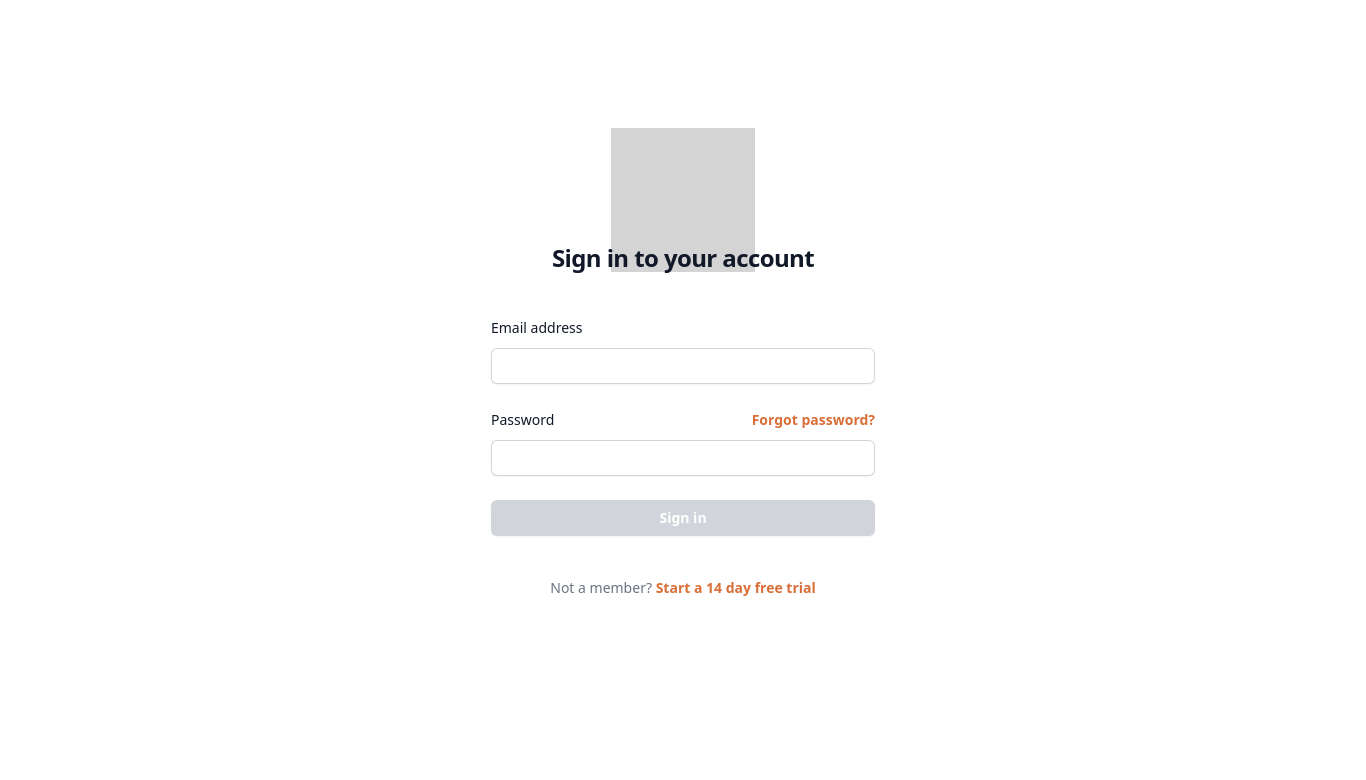
Test: Auth flow › Check if we can signout after a successful login
Type "admin@akvelon.com" into the field named "email" at x=683, y=366, box [491,348,875,384]
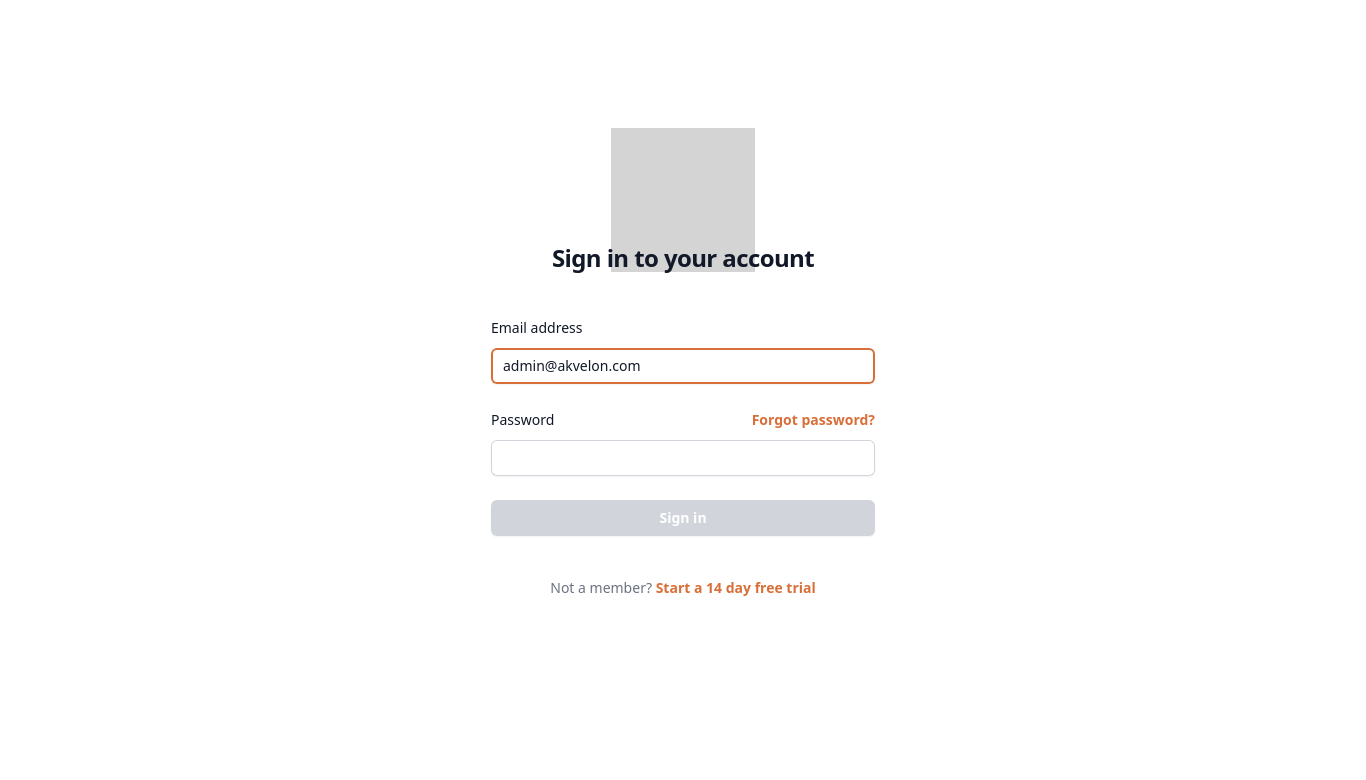
Type "admin" into the password field named "password" at x=683, y=458, box [491,440,875,476]
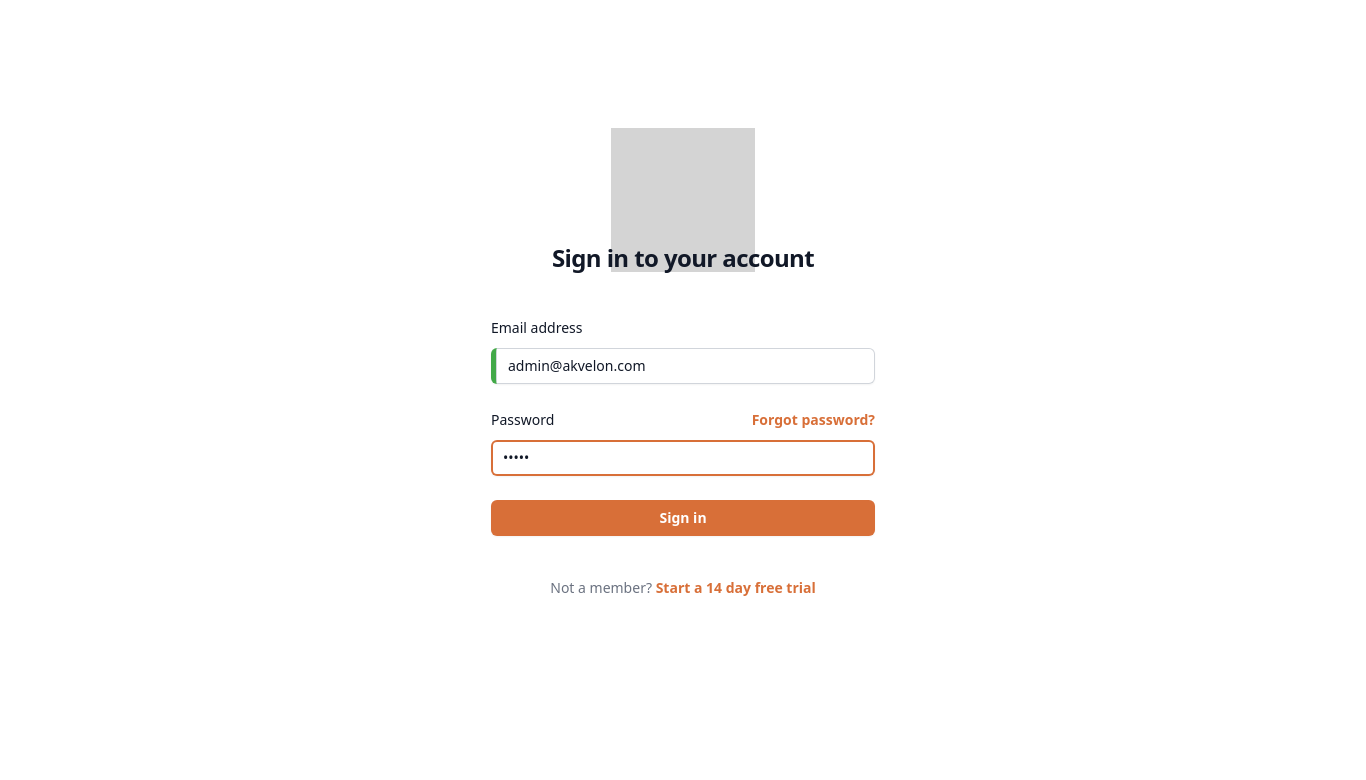
Click the button "Sign in" at x=683, y=518, box [491,500,875,536]
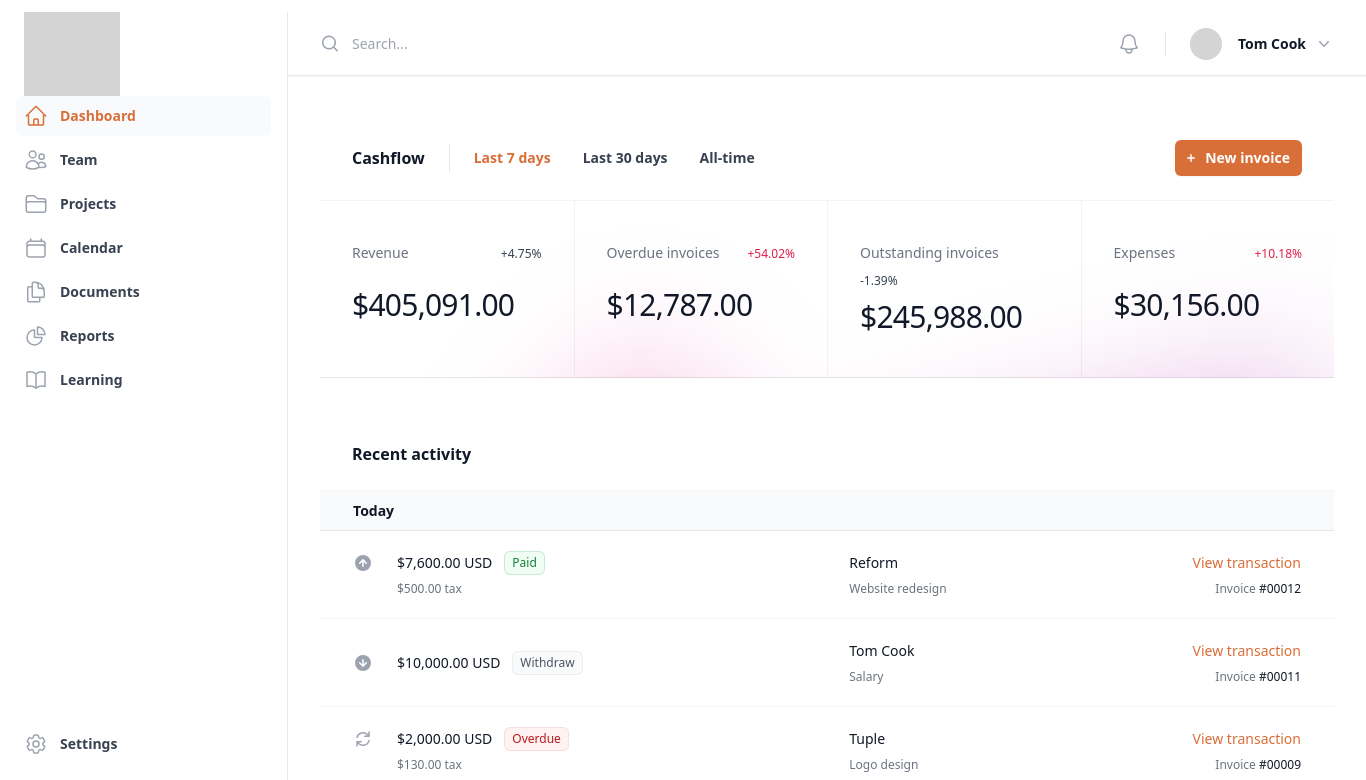
Click the button with id "user-menu-button" at x=1262, y=44, box [1184,22,1340,66]
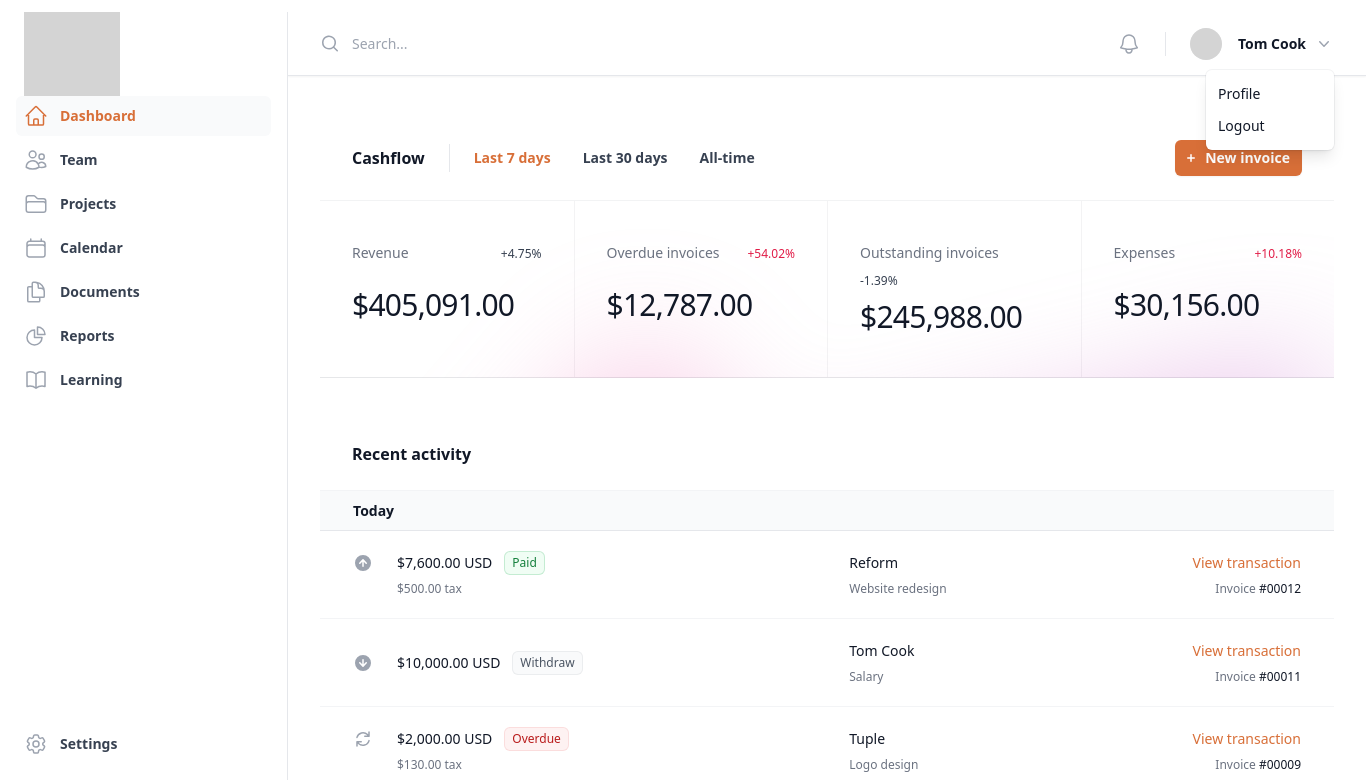
Click the menu item "Logout" at x=1270, y=126, box [1206,110,1334,142]
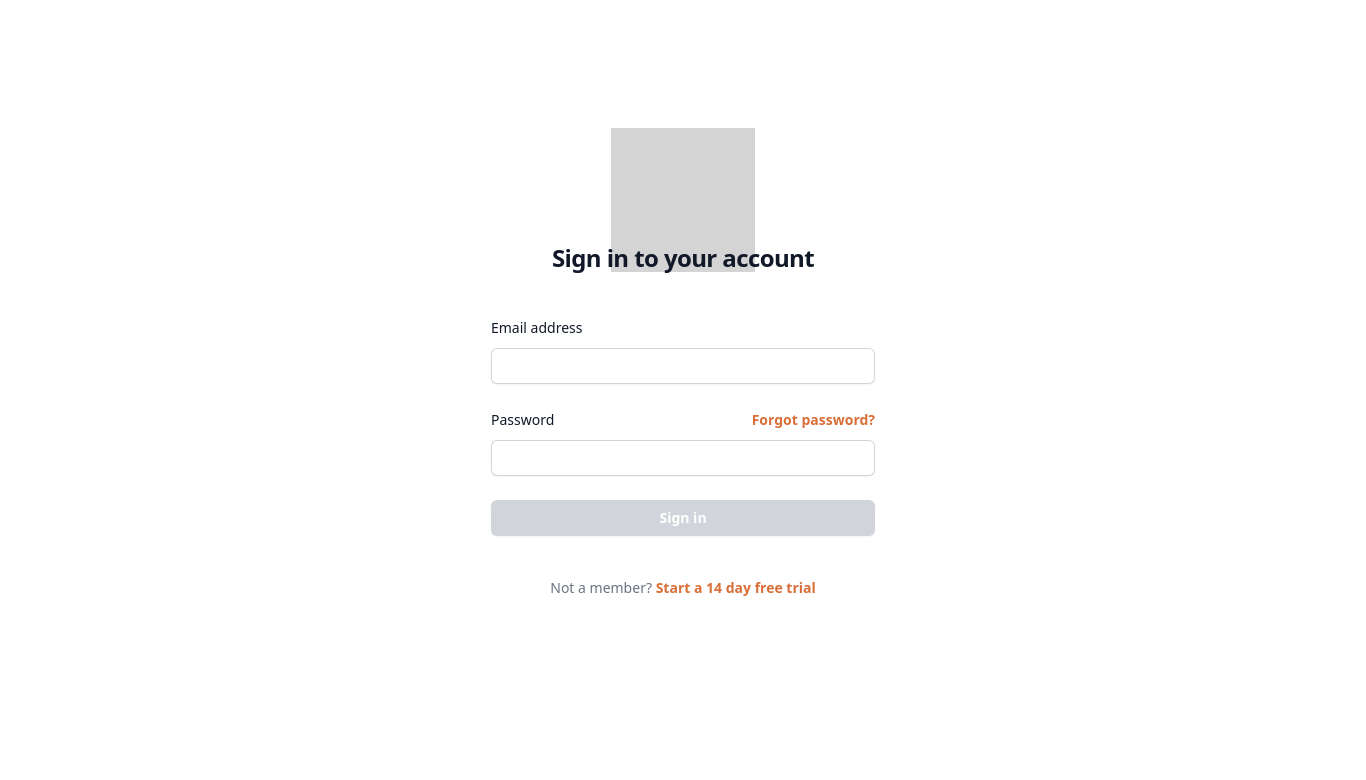
Result: the heading "Sign in to your account" is shown at [552,241,814,274]
